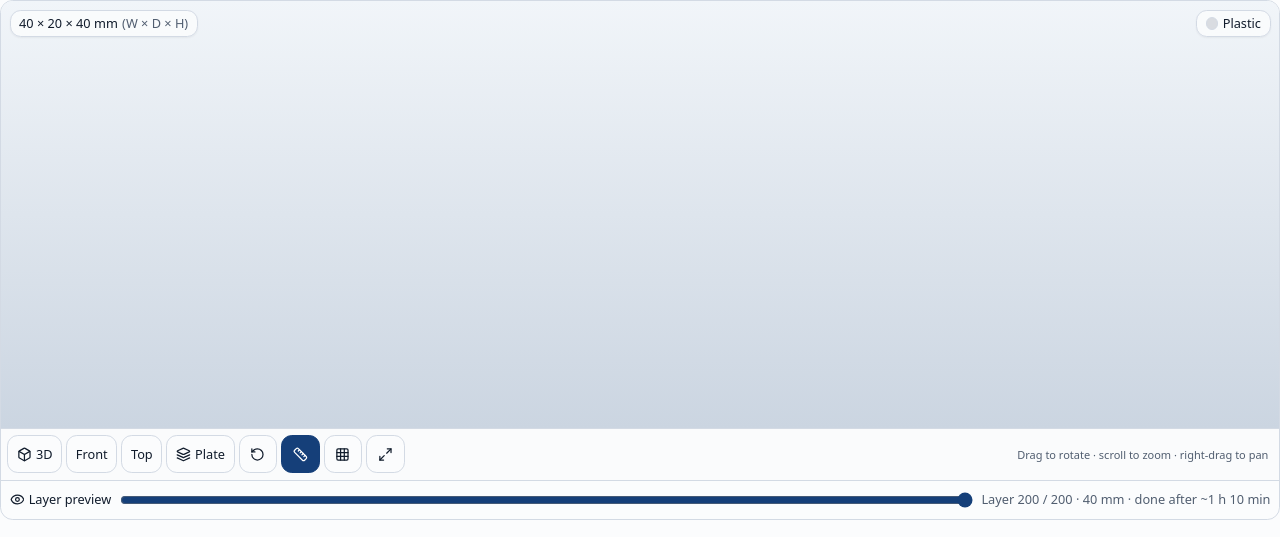
Test: StlModelPreview: supports, orientation and layers › previews the print layer by layer with the time at that height
Expected: the text with test id "stl-preview-layer-label" shows "done after ~1 h 10 min", left=1124, top=490, right=1270, bottom=508
Set the slider with test id "stl-preview-layer-slider" to "100" at coordinates (544, 500), box left=120, top=487, right=973, bottom=513
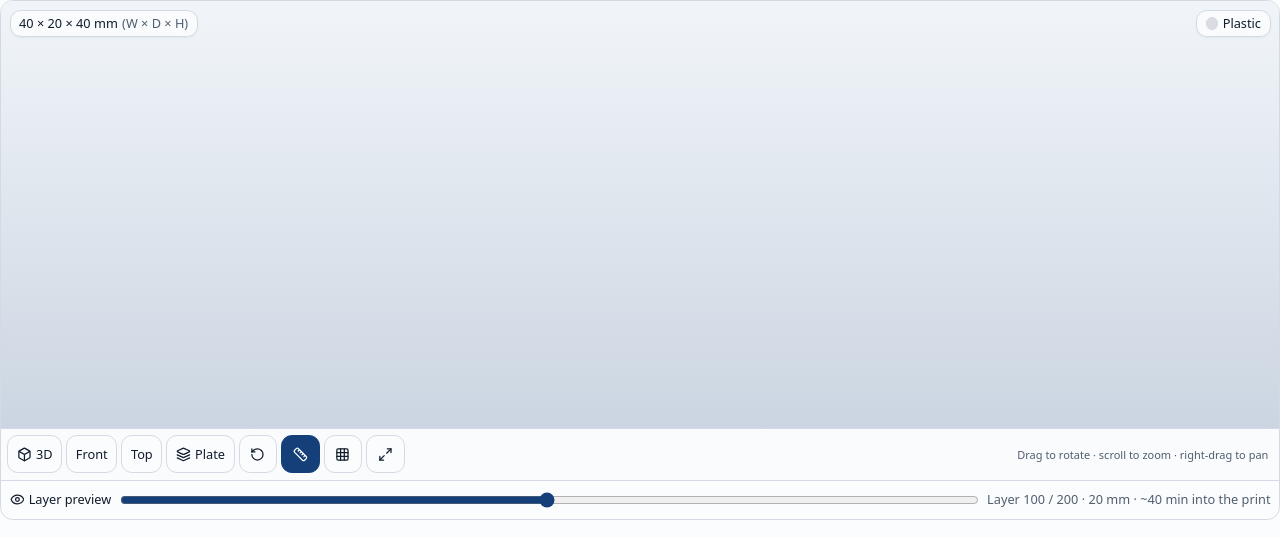
Result: the text with test id "stl-preview-layer-label" reads "Layer 100 / 200 · 20 mm · ~40 min into the print" at left=987, top=491, right=1270, bottom=508
